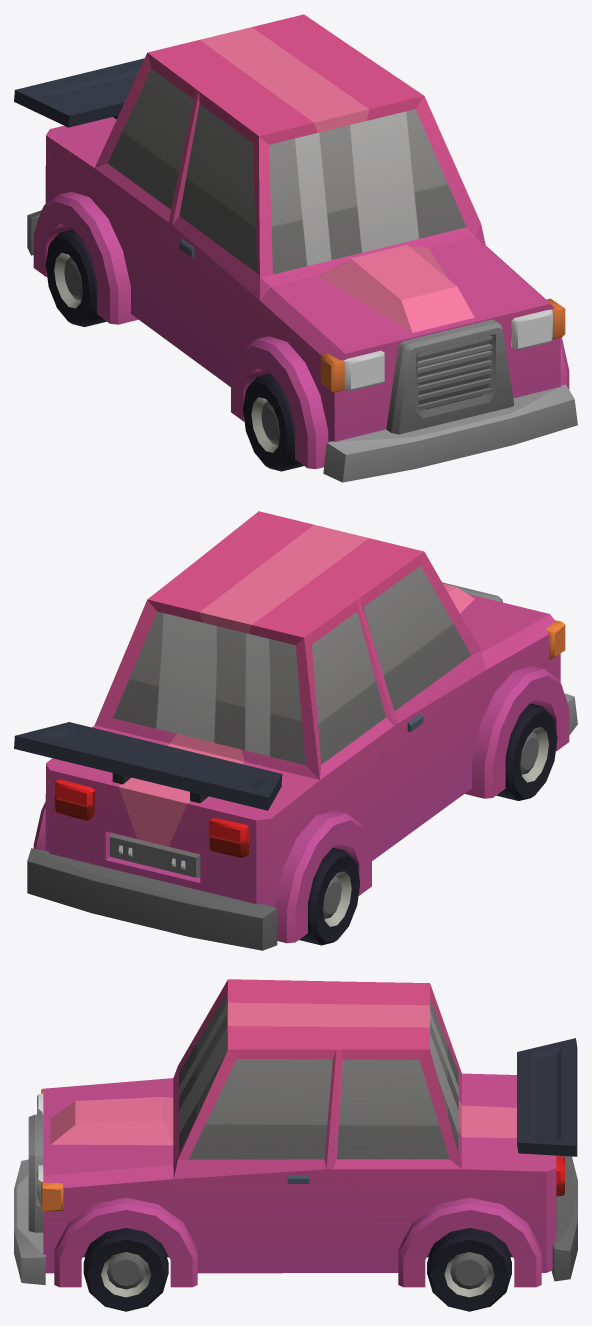
The model's file is SportCar_2.fbx.
The picture shows the model from 3 angles, top to bottom: view 1: azimuth 30°, elevation 25°; view 2: azimuth 150°, elevation 25°; view 3: azimuth 270°, elevation 25°; orthographic projection. The views are drawn at different scales.
Visible parts, largest first — view 1: SportCar_2, Wheel_fr, Wheel_br; view 2: SportCar_2, Wheel_br, Wheel_fr; view 3: SportCar_2, Wheel_fl, Wheel_bl.
Boxes of the visible parts, x1,y1,x2,y2 form: SportCar_2: [14, 14, 577, 482]; Wheel_fr: [243, 373, 303, 471]; Wheel_br: [45, 229, 106, 326]; SportCar_2: [14, 511, 577, 950]; Wheel_br: [299, 847, 360, 945]; Wheel_fr: [496, 703, 557, 800]; SportCar_2: [14, 979, 577, 1287]; Wheel_fl: [83, 1228, 168, 1311]; Wheel_bl: [427, 1228, 511, 1311].
Bounding box in the file's own units: 1.12 × 1.1 × 2.33.
